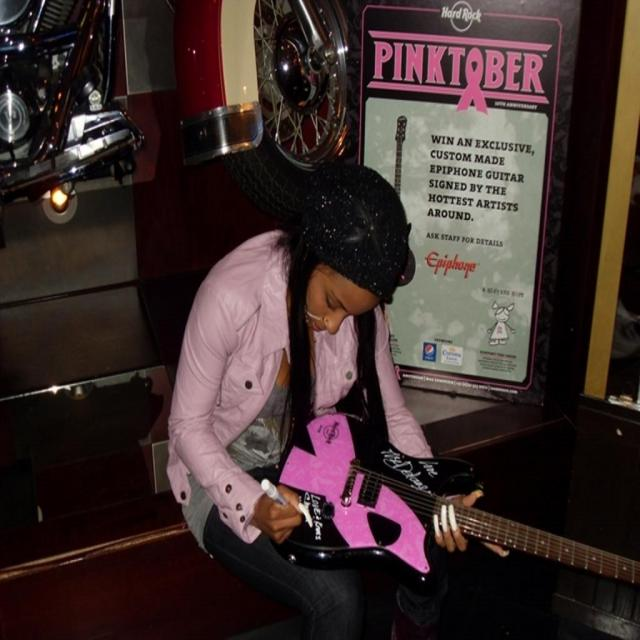nomask: (300, 248, 381, 335)
